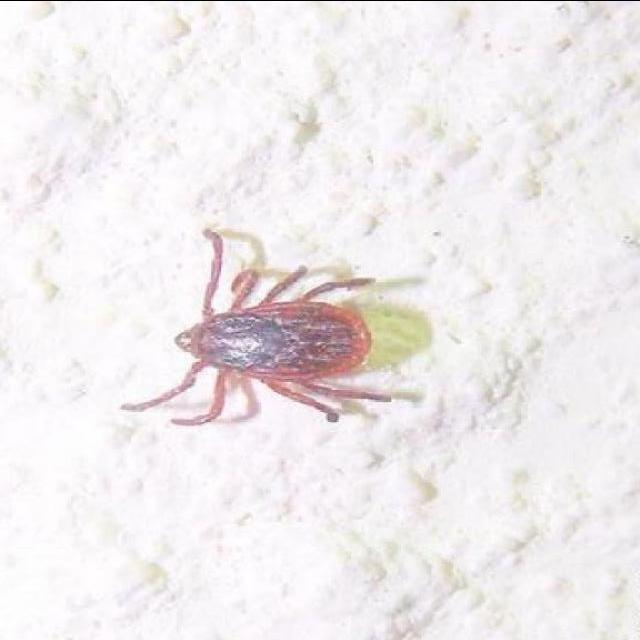Rhipicephalus Sanguineus-F: (119, 227, 393, 429)
